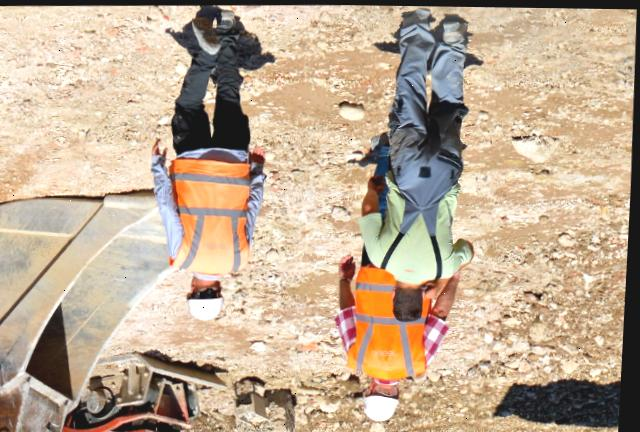helmet: (366, 395, 403, 421), (191, 298, 223, 319)
vest: (170, 153, 257, 267), (355, 271, 433, 378)
